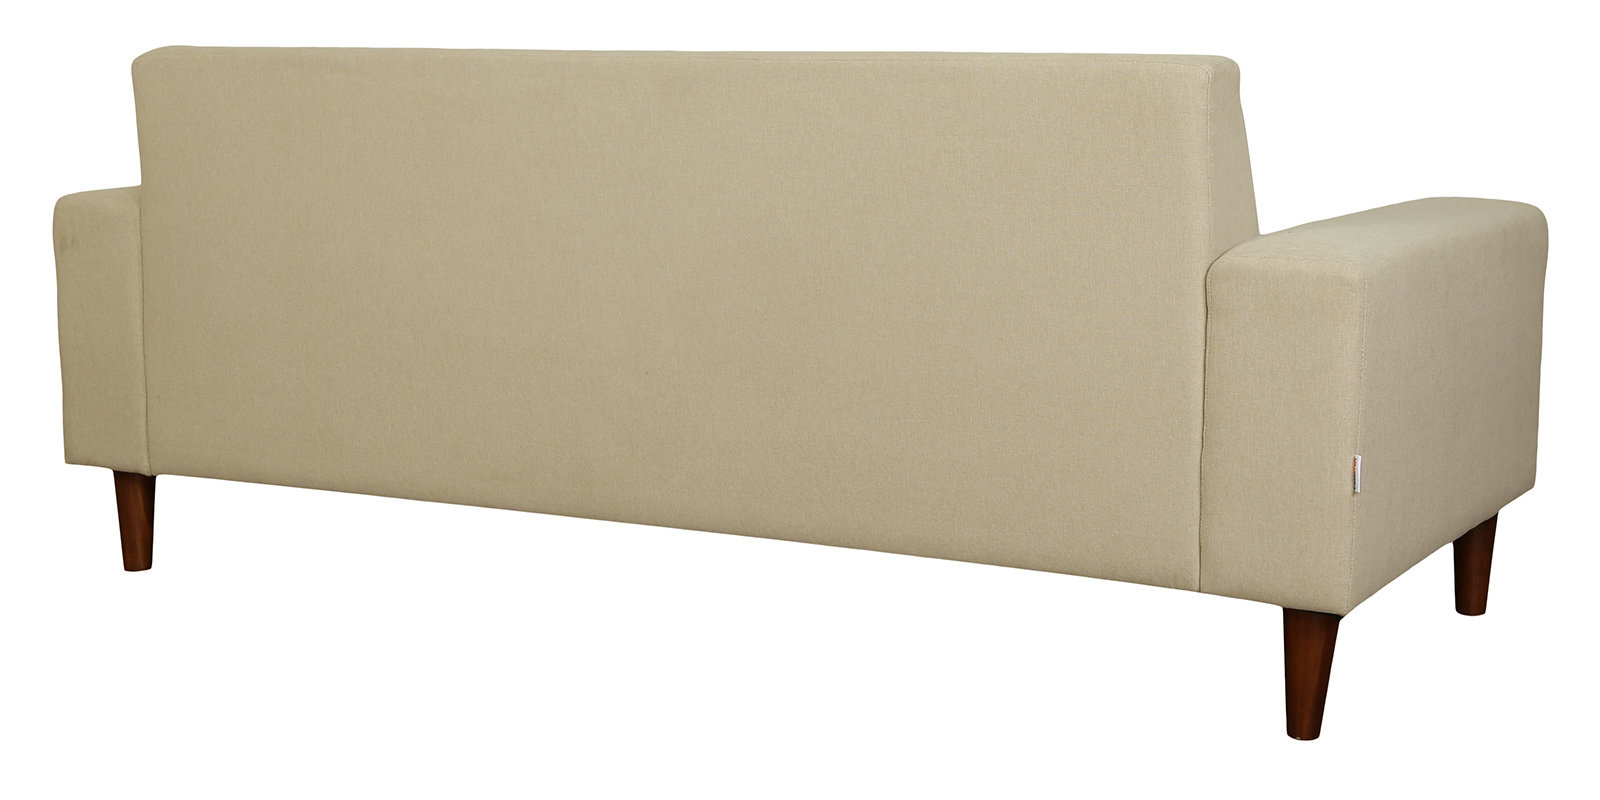Cordoba Three Seater Sofa in Beige Colour by CasaCraft: (34, 28, 1570, 697)
